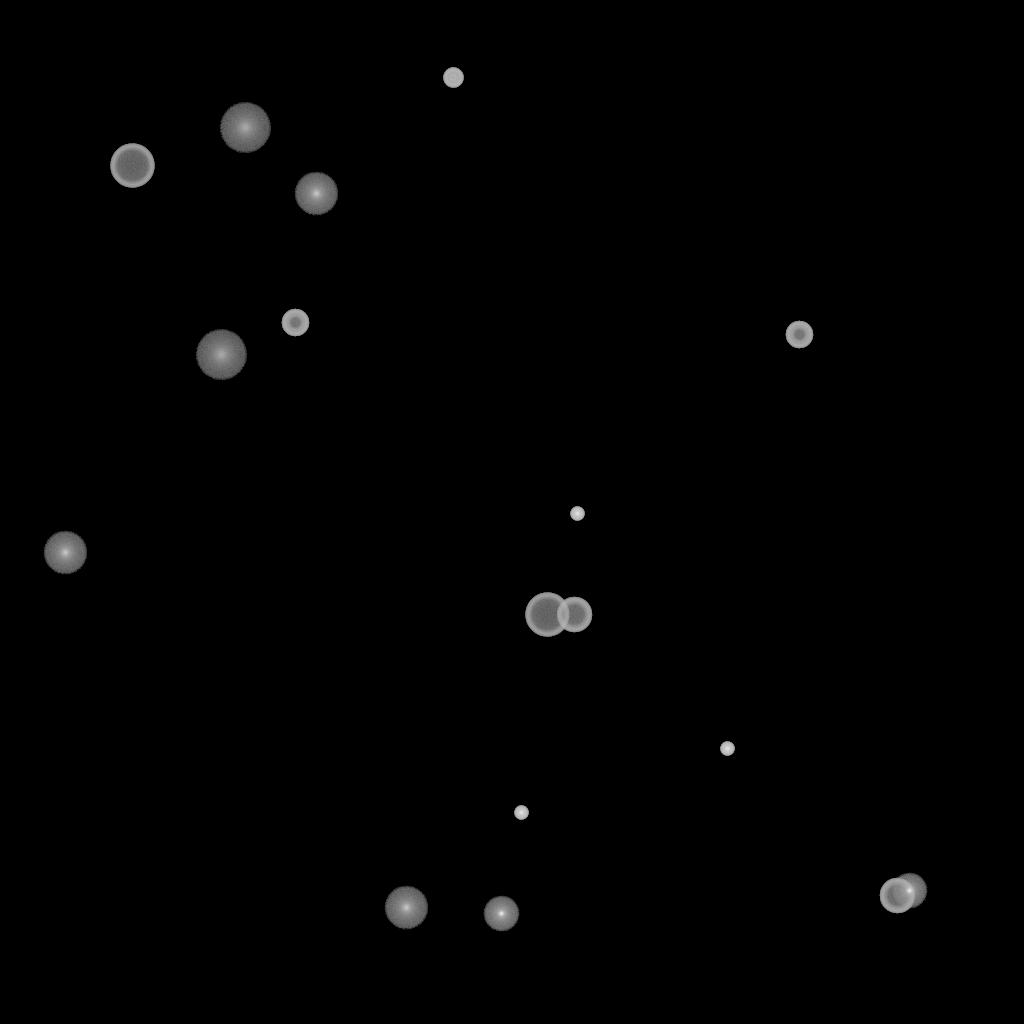depth:-30: (720, 742, 734, 756), (514, 806, 528, 820), (570, 507, 584, 521)
depth:-40: (443, 68, 463, 88)
depth:-50: (281, 309, 309, 337), (785, 321, 813, 349)
depth:-60: (556, 597, 592, 633), (879, 878, 915, 914)
depth:-70: (525, 593, 569, 637), (110, 144, 154, 188)
depth:0: (483, 896, 519, 932), (891, 873, 927, 909)
depth:10: (294, 172, 338, 216), (384, 886, 428, 930), (43, 531, 87, 575)
depth:20: (195, 330, 247, 380), (219, 103, 271, 153)
